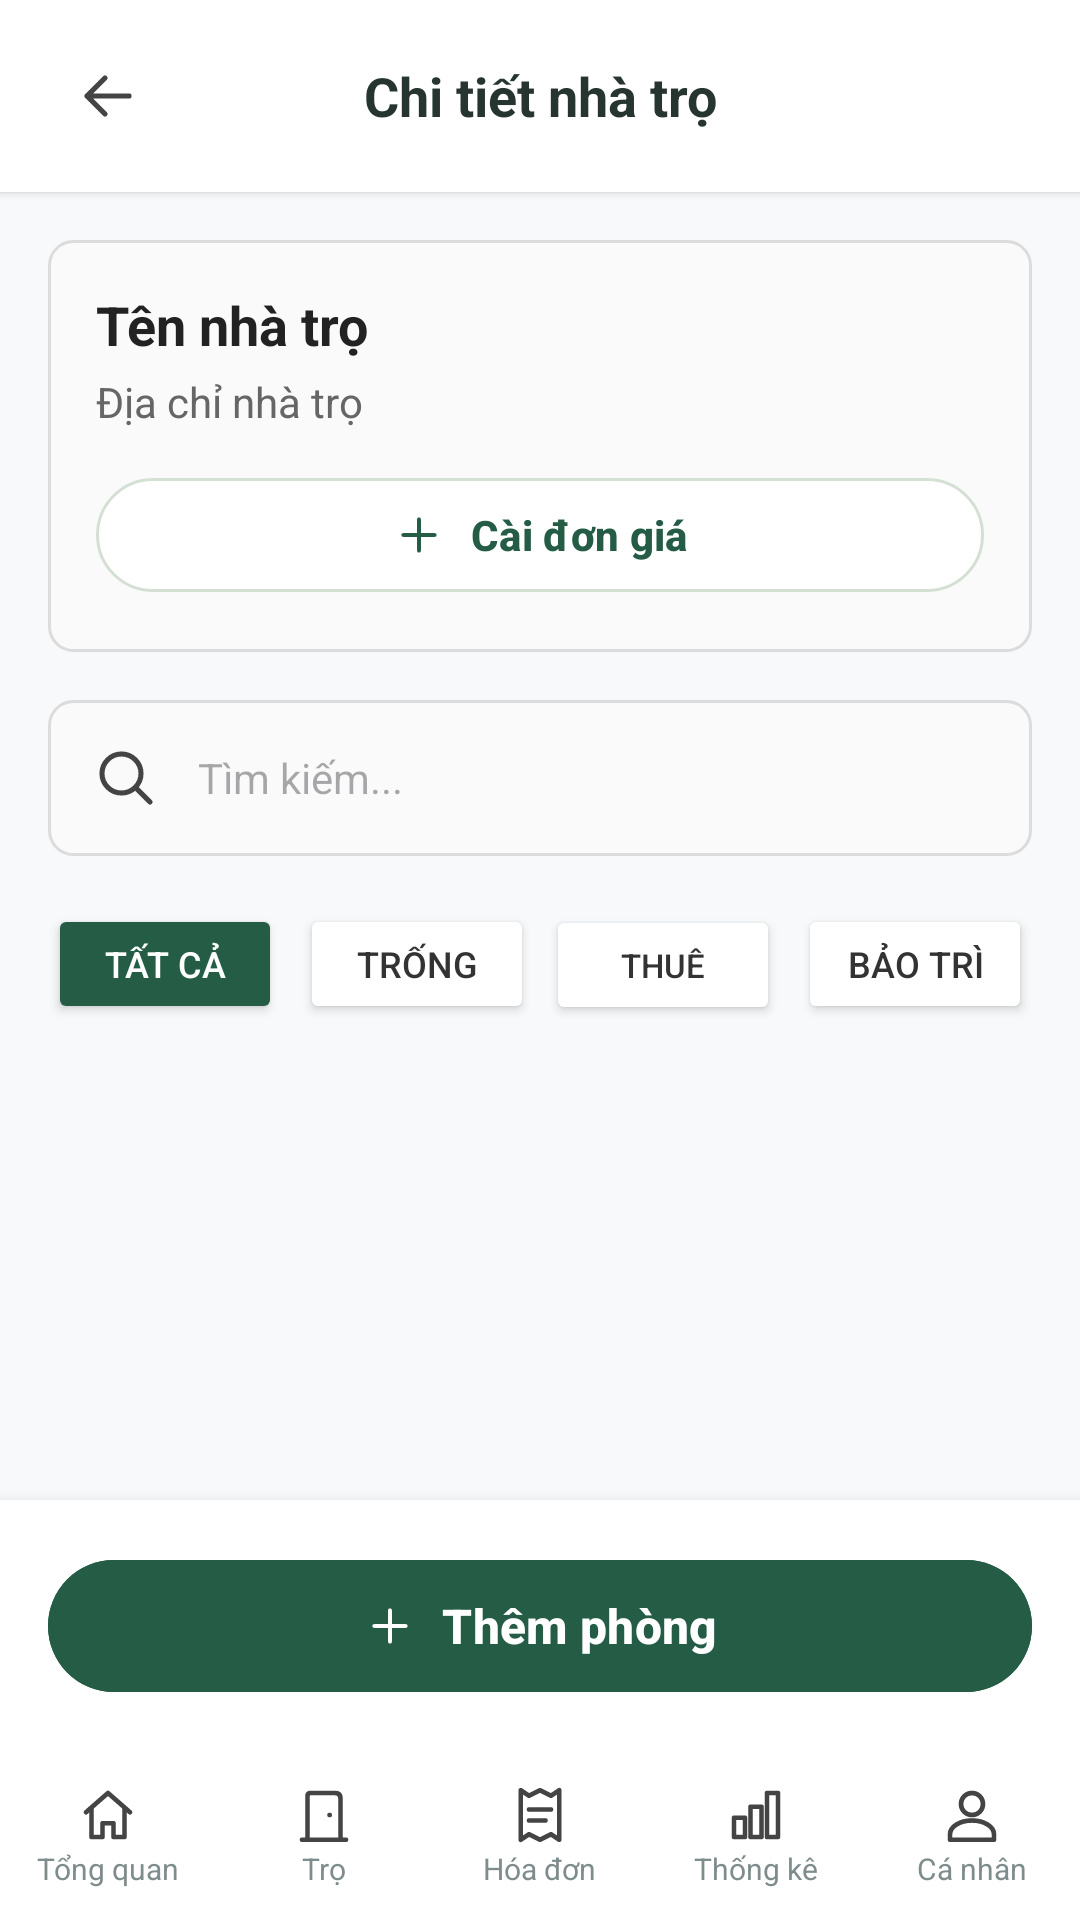

Point at icon controls on the screen. Image size 1080px×1920px, points as [x,y].
Quay lại: [108,96]
